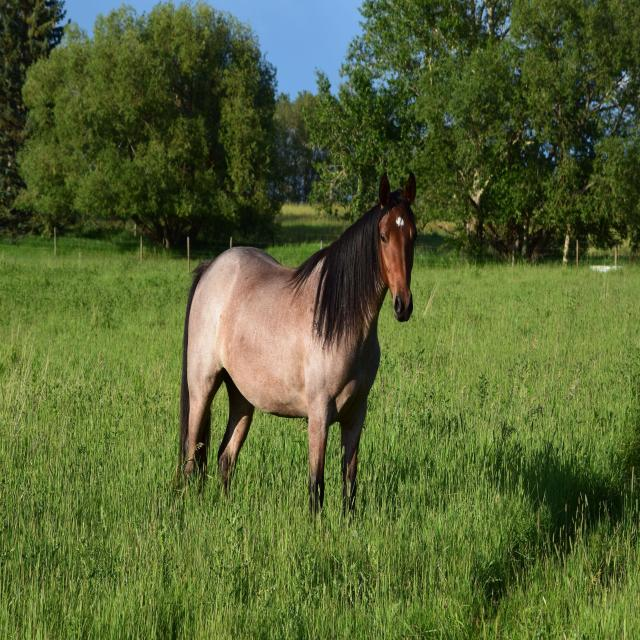horse: (164, 167, 438, 496)
